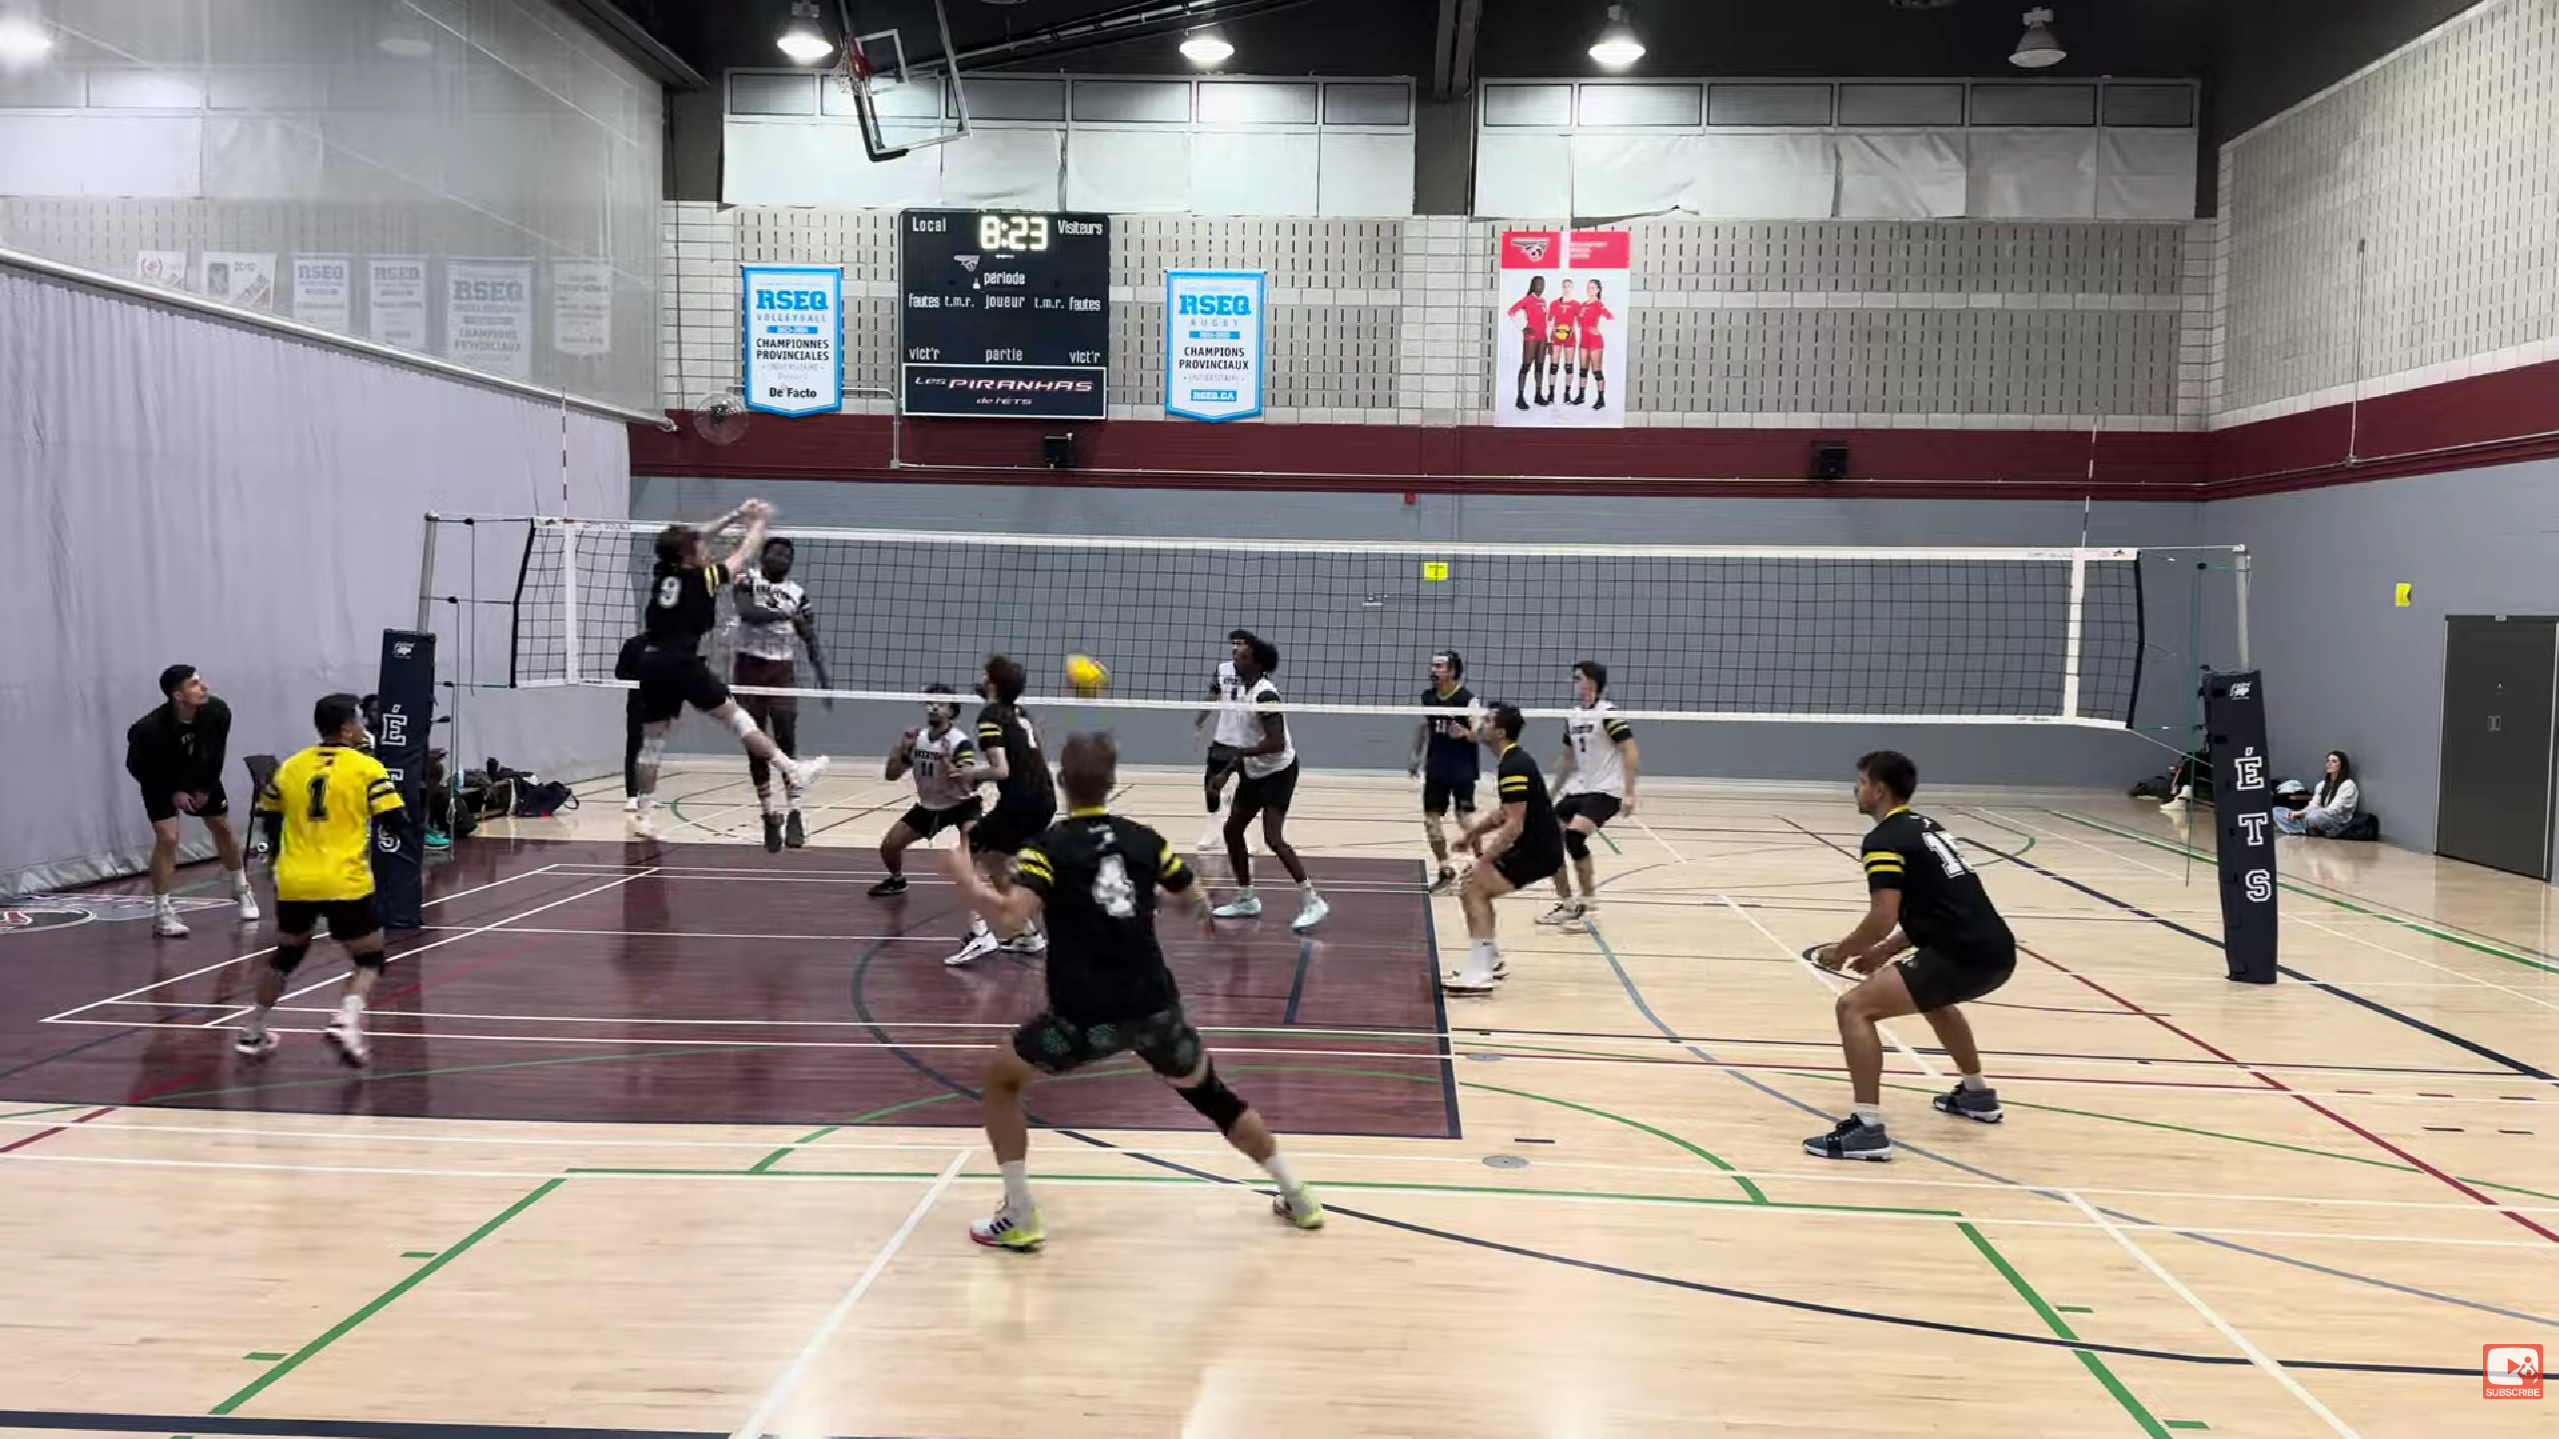Ball: (1058, 643, 1118, 699)
